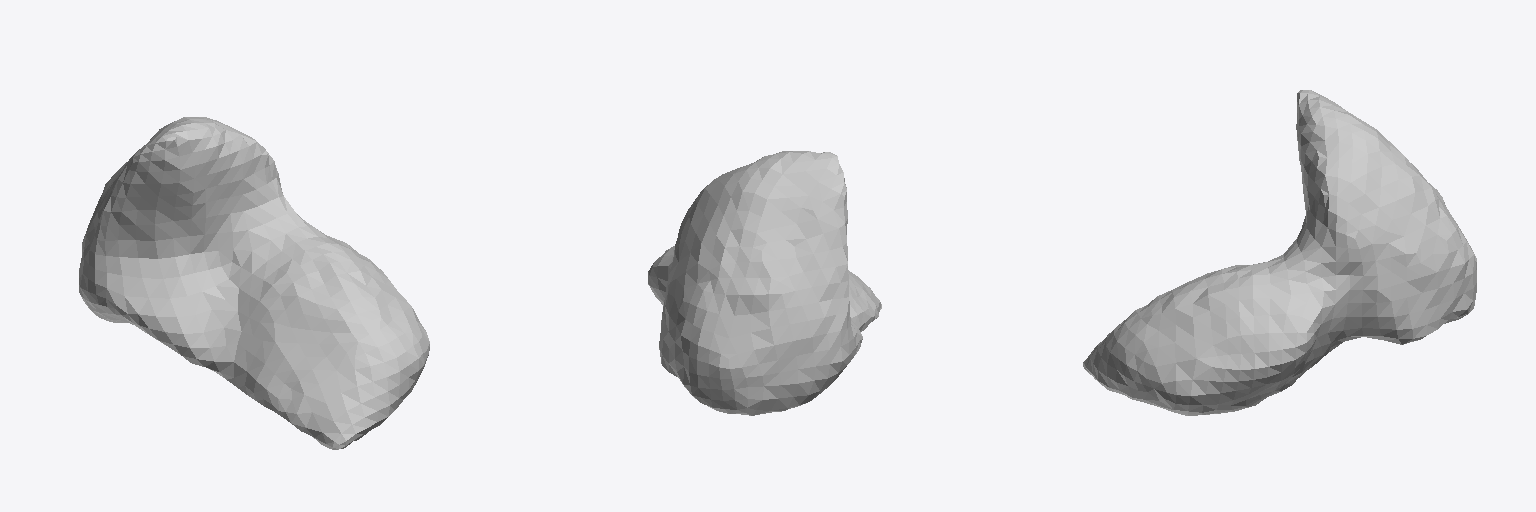
File: rock.obj
3 renders of one model, left to right at view 1: azimuth 30°, elevation 25°; view 2: azimuth 150°, elevation 25°; view 3: azimuth 270°, elevation 25°, orthographic.
Parts seen in each view (by area): view 1: boulder; view 2: boulder; view 3: boulder.
Part boxes in pixels (left/top/right/bottom): boulder: left=79, top=117, right=429, bottom=449; boulder: left=648, top=151, right=881, bottom=415; boulder: left=1083, top=90, right=1476, bottom=415.
Size of the model in its own units: 1420 by 1404 by 1935.